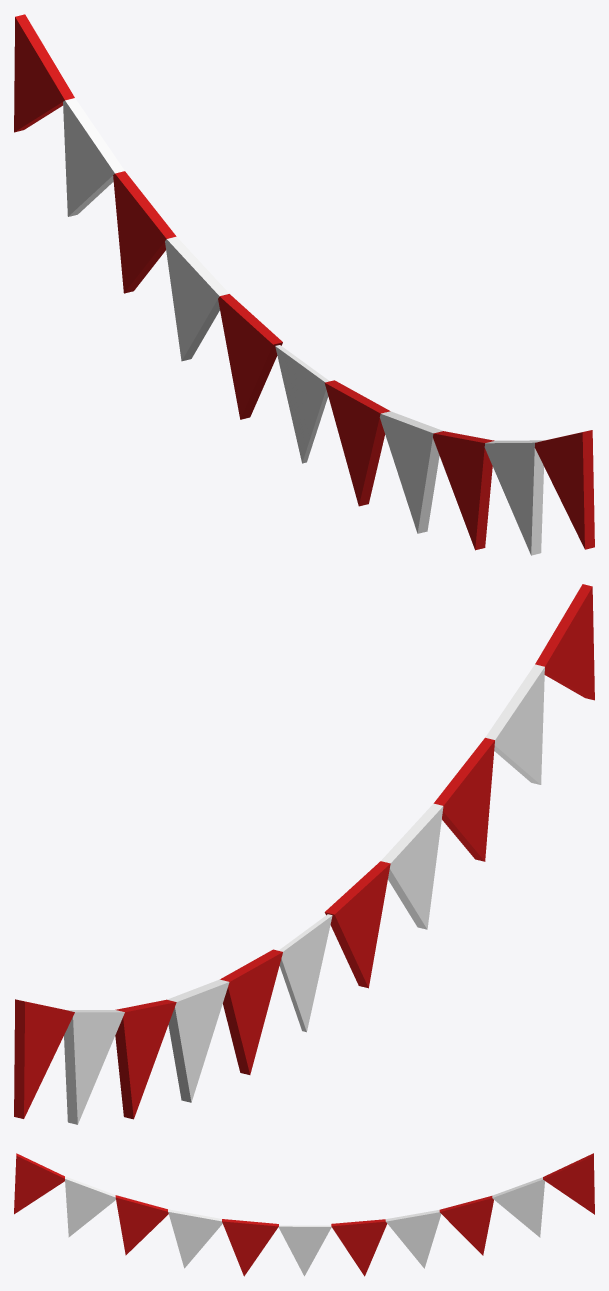
The model's file is deco.FBX.
3 views of the same model, one above another, from view 1: azimuth 30°, elevation 25°; view 2: azimuth 150°, elevation 25°; view 3: azimuth 270°, elevation 25° (orthographic). The views are drawn at different scales.
Parts seen in each view (by area): view 1: Line006; view 2: Line006; view 3: Line006.
Boxes of the visible parts, x1=… form: Line006: x1=14, y1=14, x2=594, y2=555; Line006: x1=14, y1=584, x2=594, y2=1124; Line006: x1=14, y1=1153, x2=594, y2=1276.
Size of the model in its own units: 2.11 by 48.19 by 208.
